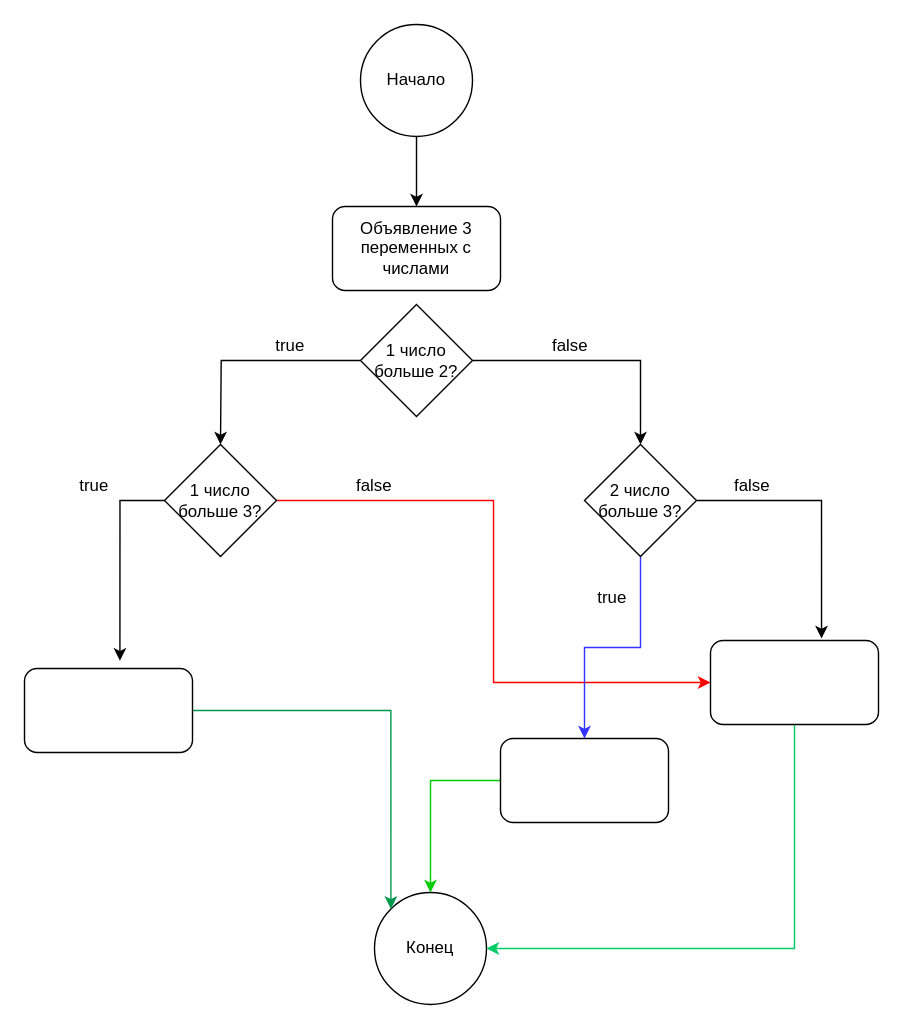
This 903x1029 diagram has some shape labels left out. The shapes that lost their labels are listed below. From the top down, each one's centre as x and y in pixels, then its label:
the point at 793,681: Напечатать 3 число
the point at 107,709: Напечатать 1 число
the point at 583,779: Напечатать 2 число
